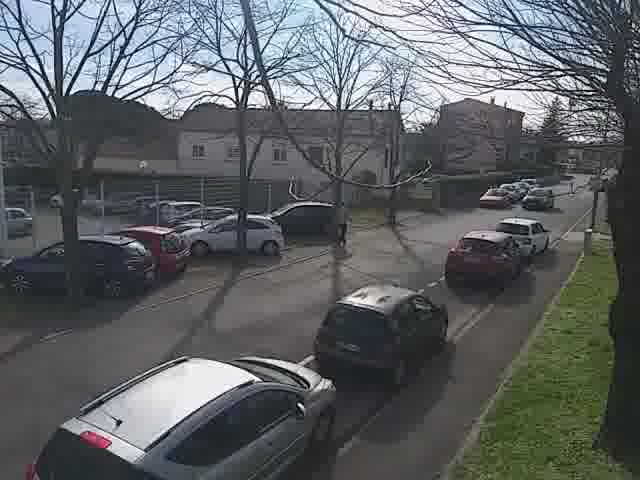persona: (332, 195, 353, 249)
